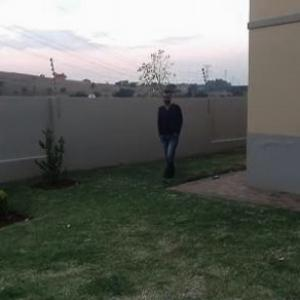follow: (157, 86, 189, 180)
